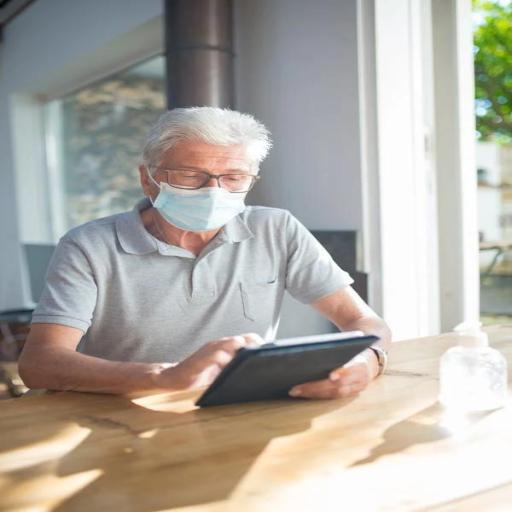mask: (144, 111, 273, 254)
